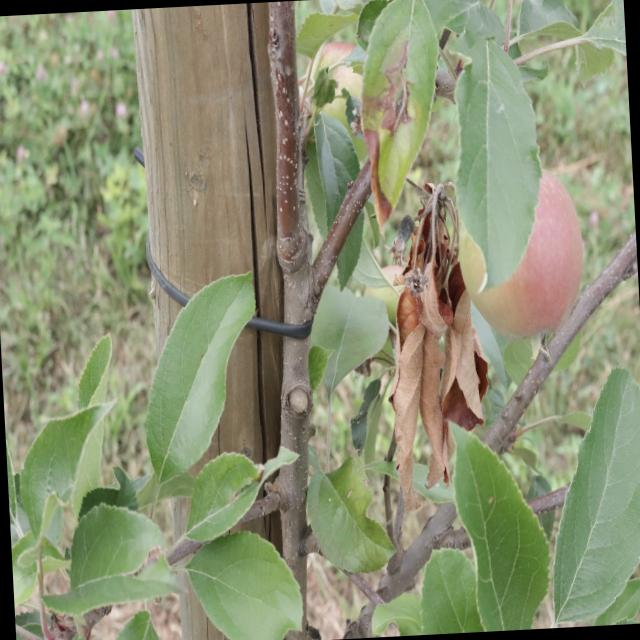-FireBlight-: (383, 183, 502, 521)
